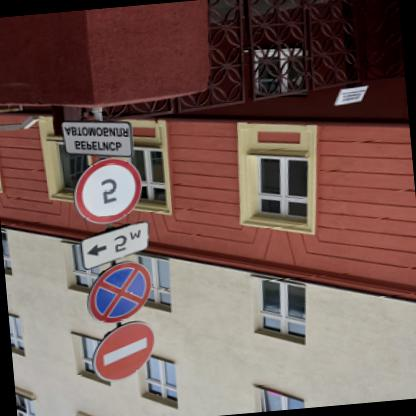speedlimit: (71, 158, 144, 228)
